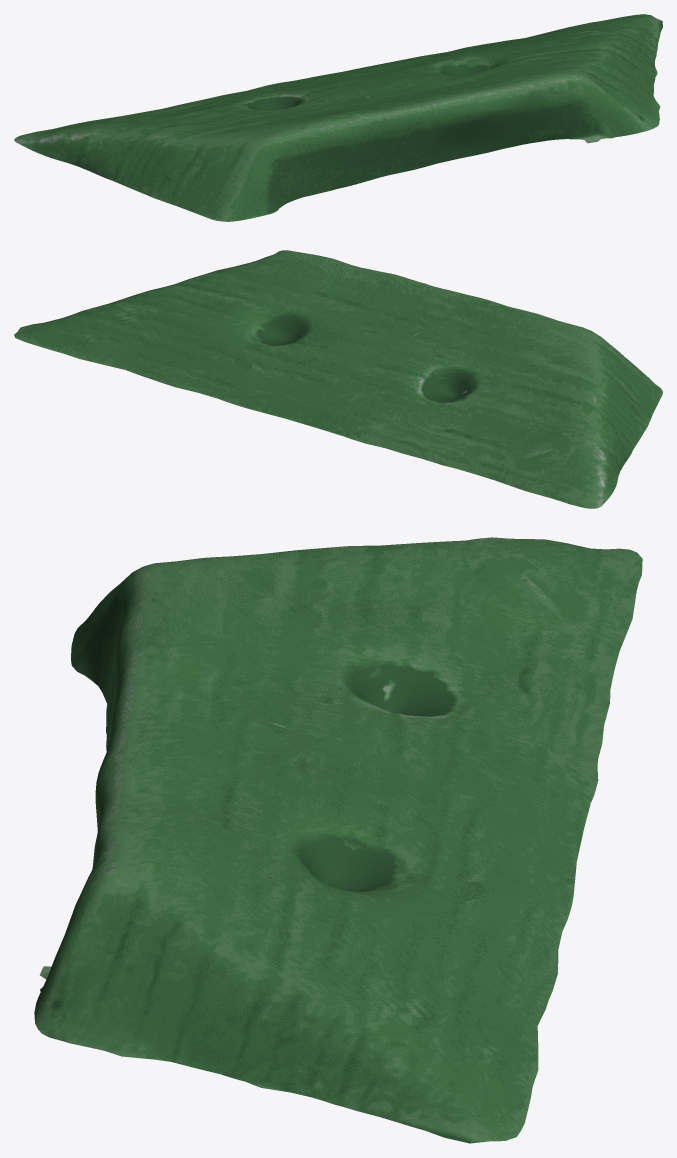
Rendered from setrsoft-25-crimp.glb.
3 views of the same model, one above another, from view 1: azimuth 30°, elevation 25°; view 2: azimuth 150°, elevation 25°; view 3: azimuth 270°, elevation 25° (orthographic). The views are drawn at different scales.
Visible parts, largest first — view 1: 0000000093; view 2: 0000000093; view 3: 0000000093.
Part boxes in pixels (<box>): 0000000093: <box>14,14,662,221</box>; 0000000093: <box>14,250,662,508</box>; 0000000093: <box>34,537,642,1143</box>.
Bounding box in the file's own units: 0.168 × 0.0154 × 0.0726.
1 material, 1 textured.
